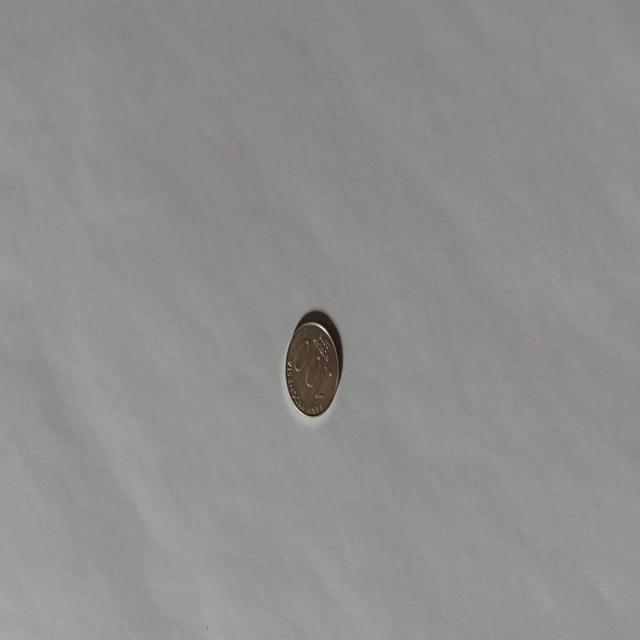seratus rupiah: (284, 317, 340, 418)
